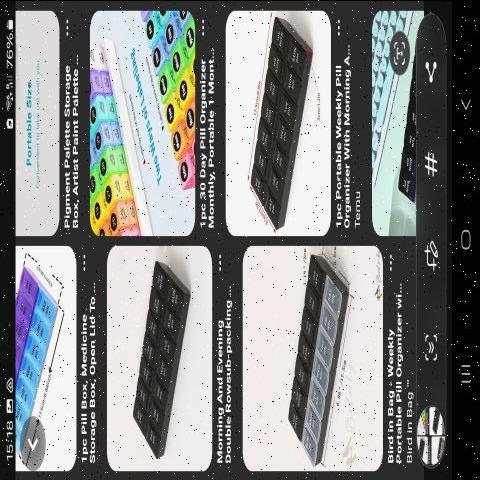PillBox: (259, 250, 366, 468), (232, 12, 320, 231), (114, 253, 200, 463)
